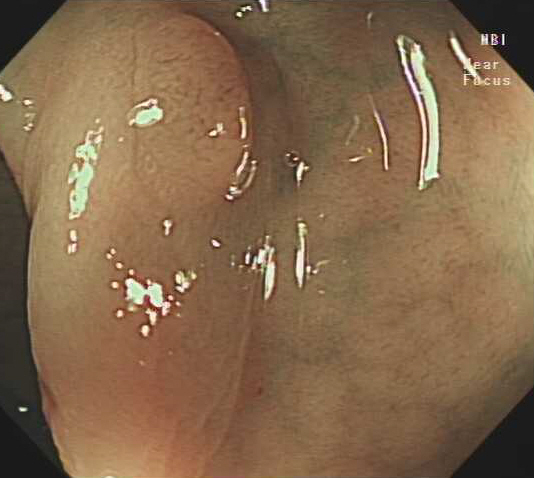others: (125, 11, 255, 209)
